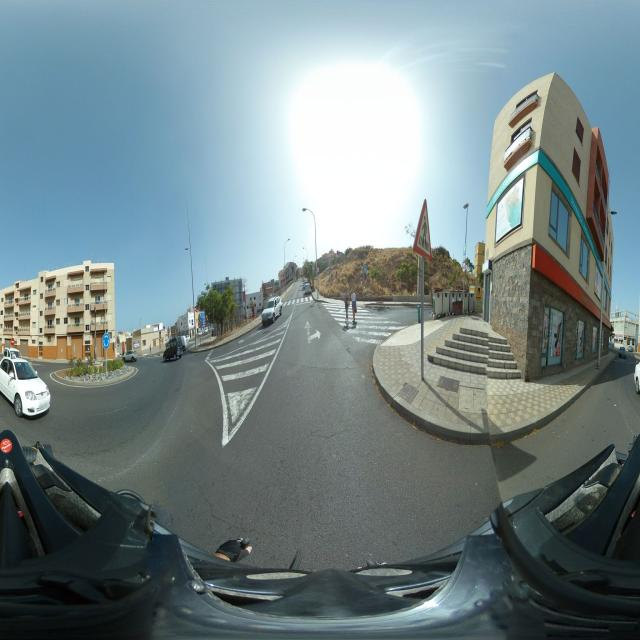forb_stopping: (364, 272, 367, 280)
